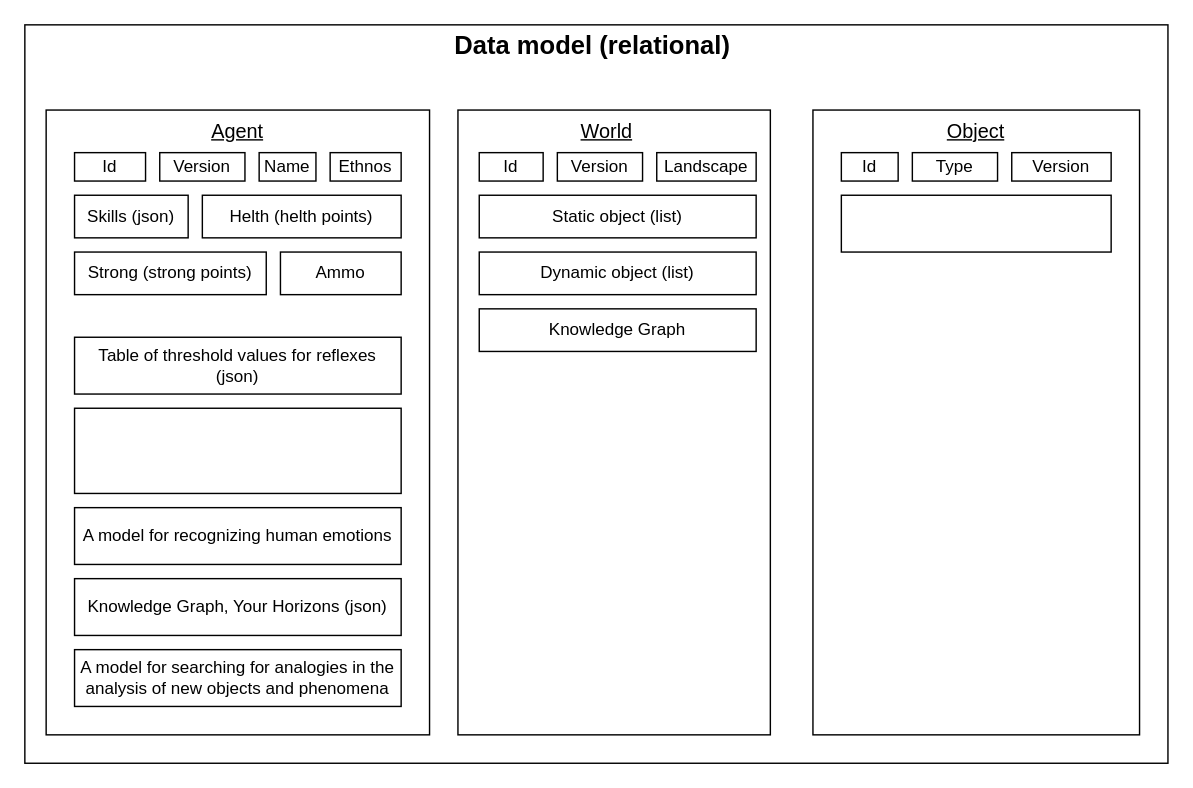
Image size: 1193x788. Some labels were removed from this diagram. Here are the shapes that lost their labels. From the top down, the centre of each, then its label:
At (x=975, y=223): "Атрибуты (список)".
At (x=237, y=450): "Signal recognition model for instinctive response selection (decision tree)".
